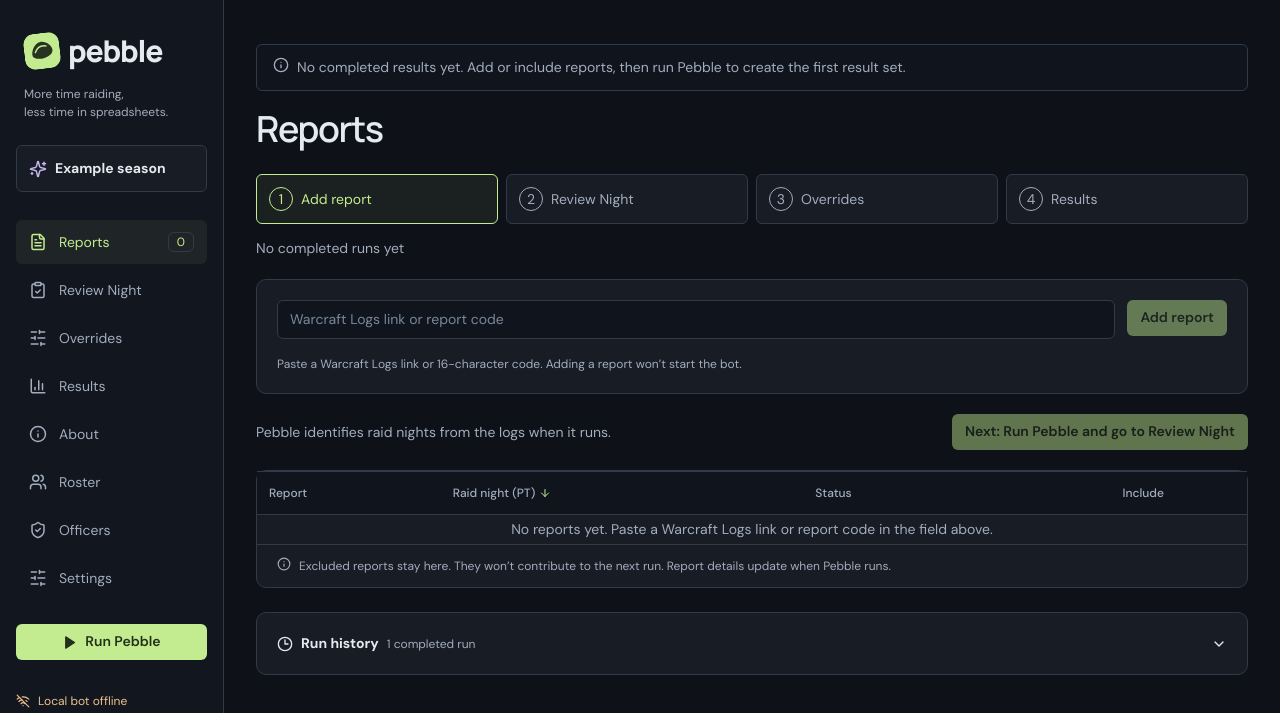
Test: places timing review on Review Night and availability on Overrides
Click the button "Overrides".
click(112, 338)  # box x1=16 y1=316 x2=207 y2=360
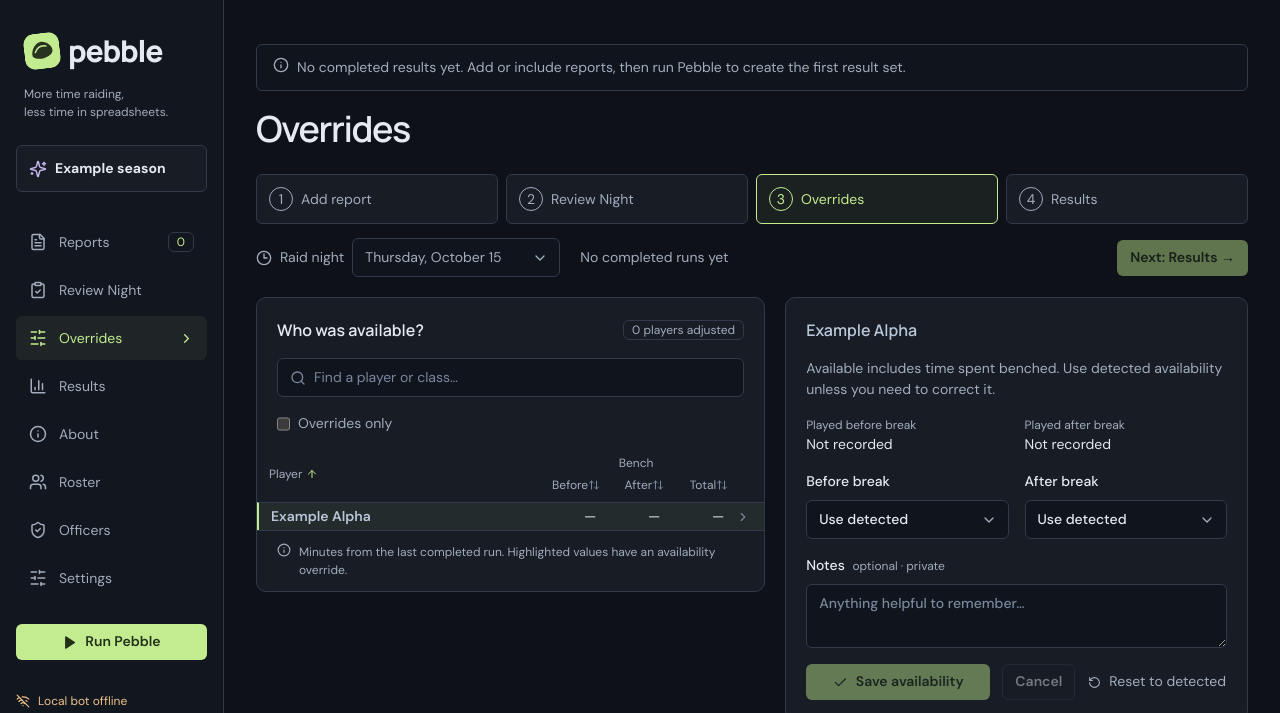
Click the button "Review Night".
click(112, 290)  # box x1=16 y1=268 x2=207 y2=312
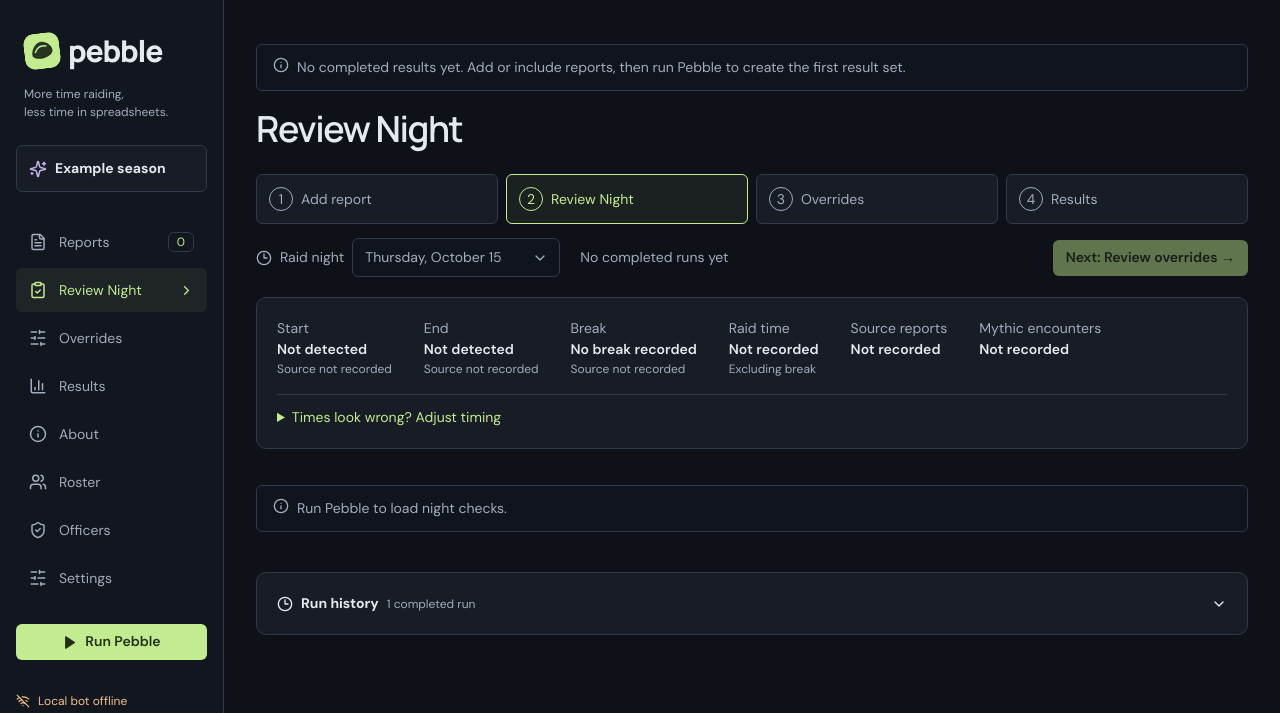
Click the heading "Times look wrong? Adjust timing".
click(396, 417)  # box x1=292 y1=408 x2=501 y2=426
(page scrolled)
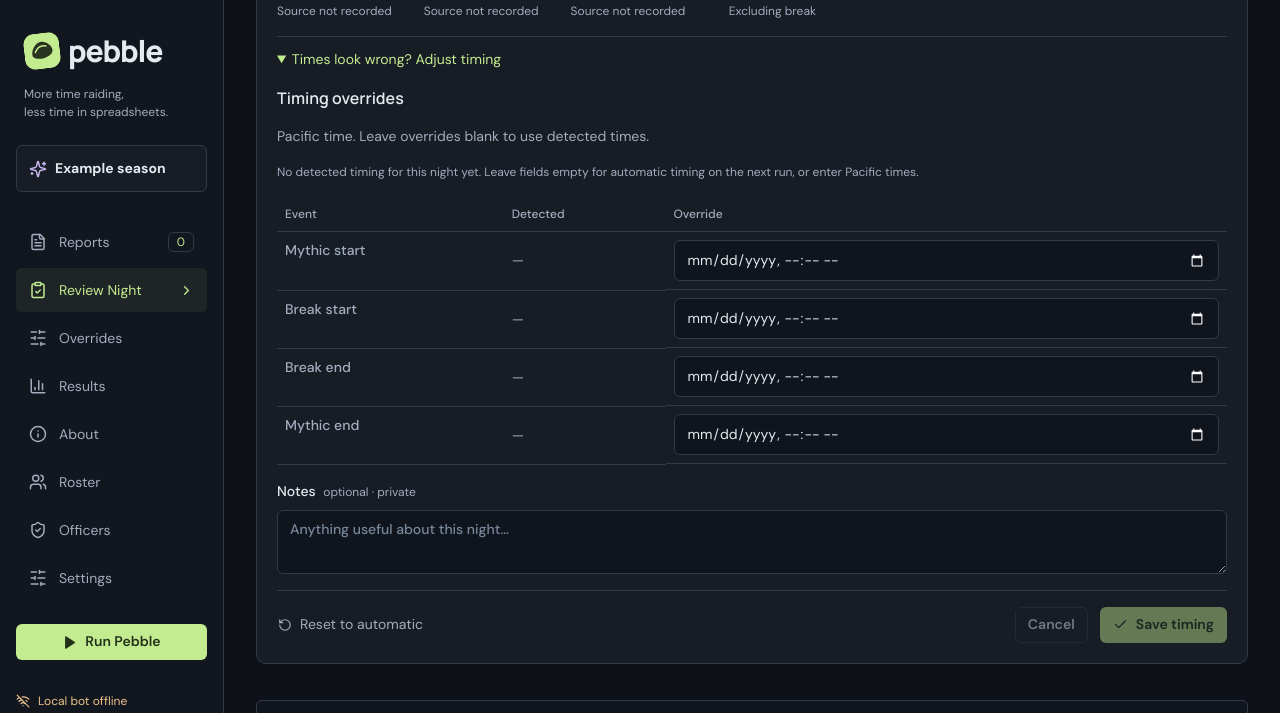
Now the element named "Raid timing editor" is shown, box x1=277 y1=70 x2=1227 y2=643
